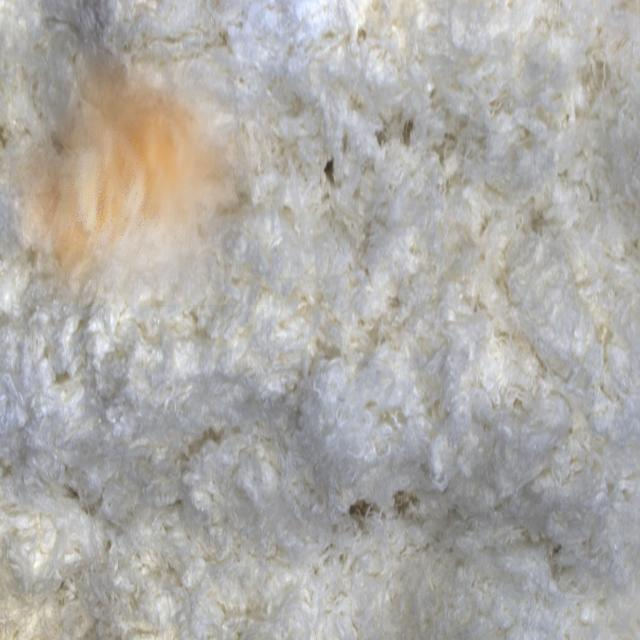dust: (9, 16, 269, 305)
